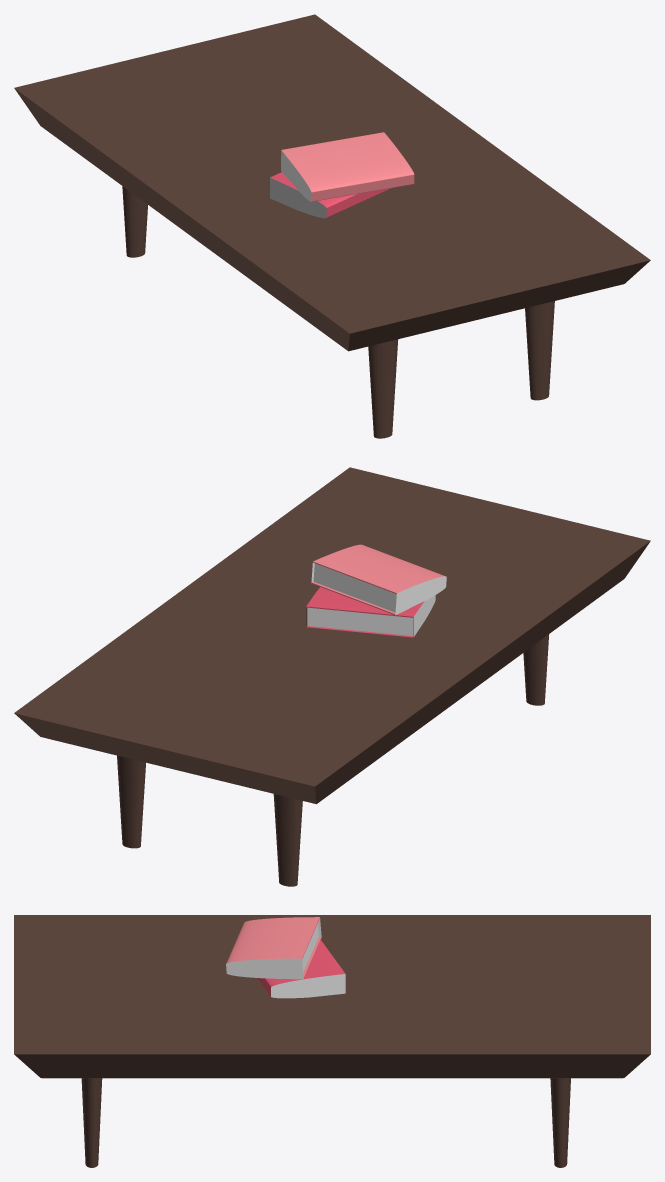
The model's file is Table01.fbx.
The picture shows the model from 3 angles, top to bottom: view 1: azimuth 30°, elevation 25°; view 2: azimuth 150°, elevation 25°; view 3: azimuth 270°, elevation 25°; orthographic projection. The views are drawn at different scales.
Visible parts, largest first — view 1: Table01; view 2: Table01; view 3: Table01.
Boxes of the visible parts, bbox=[...] form: Table01: bbox=[14, 14, 650, 438]; Table01: bbox=[14, 467, 650, 886]; Table01: bbox=[14, 915, 650, 1167].
Bounding box in the file's own units: 6861 × 4241 × 13255.
